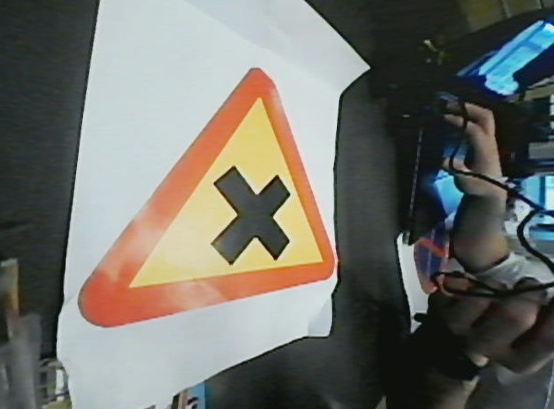junction: (77, 66, 345, 336)
